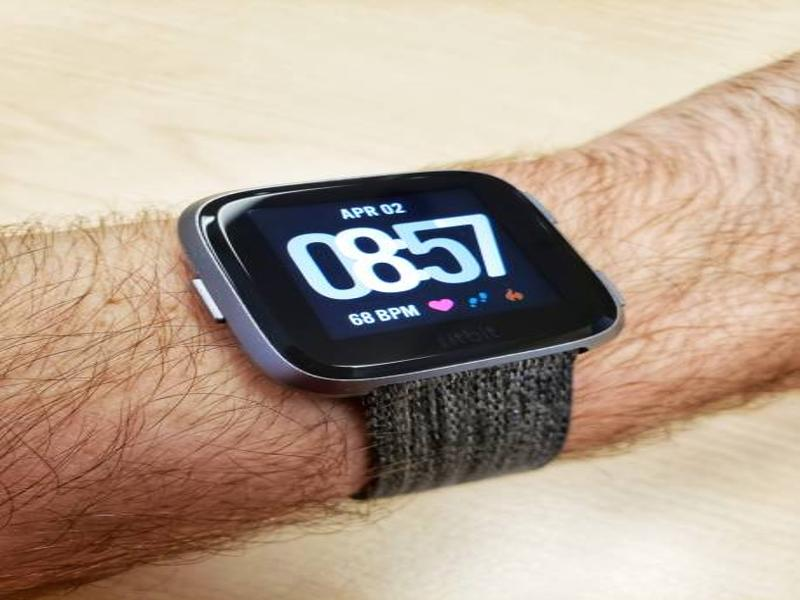watch: (177, 169, 627, 500)
